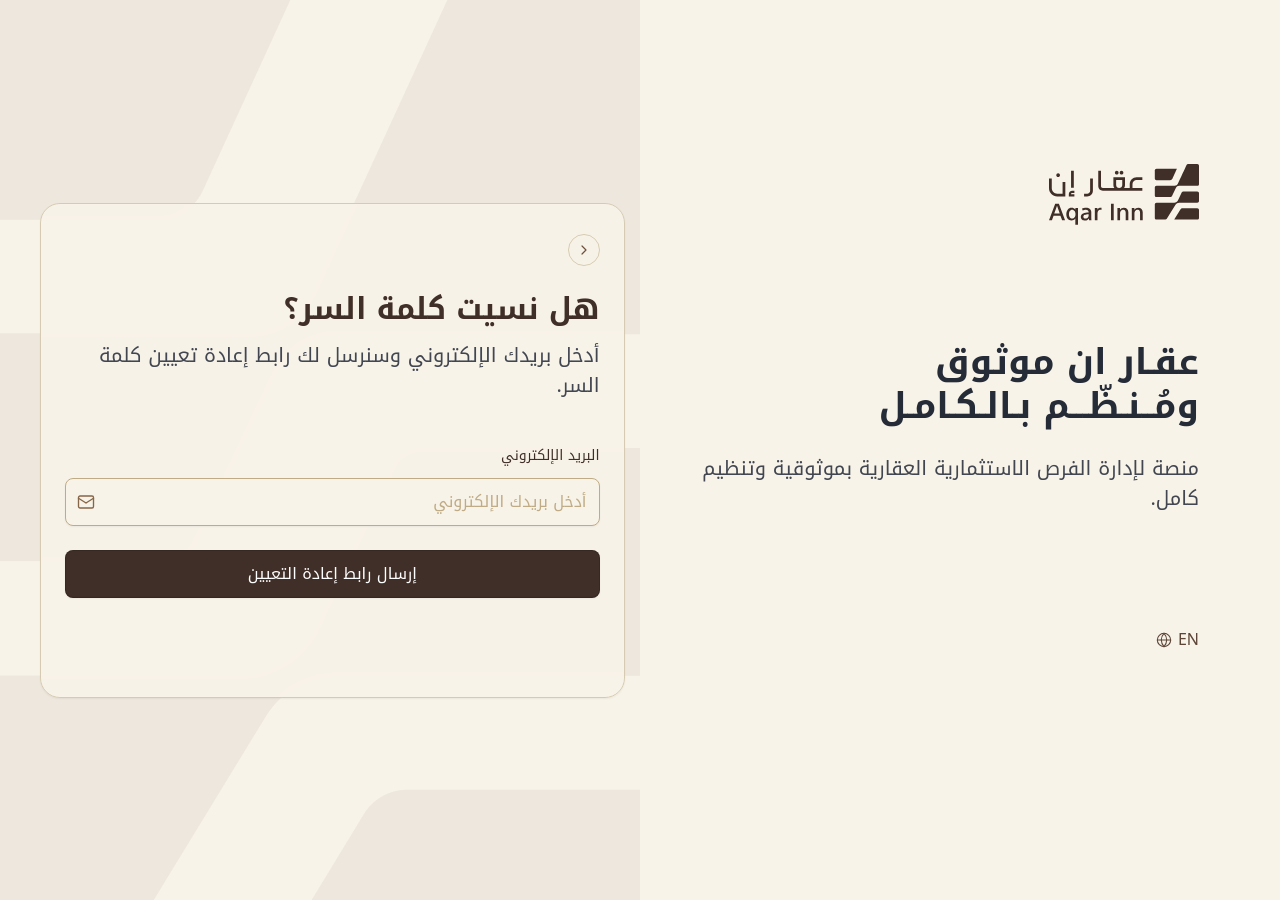
Test: Auth flow routes › validates the email field on forgot password
Check: the heading "هل نسيت كلمة السر؟" is shown, box [283,280,600,336]
Type "invalid-email" into the field with placeholder "أدخل بريدك الإلكتروني" at coordinates (332, 502), box [65,478,600,526]
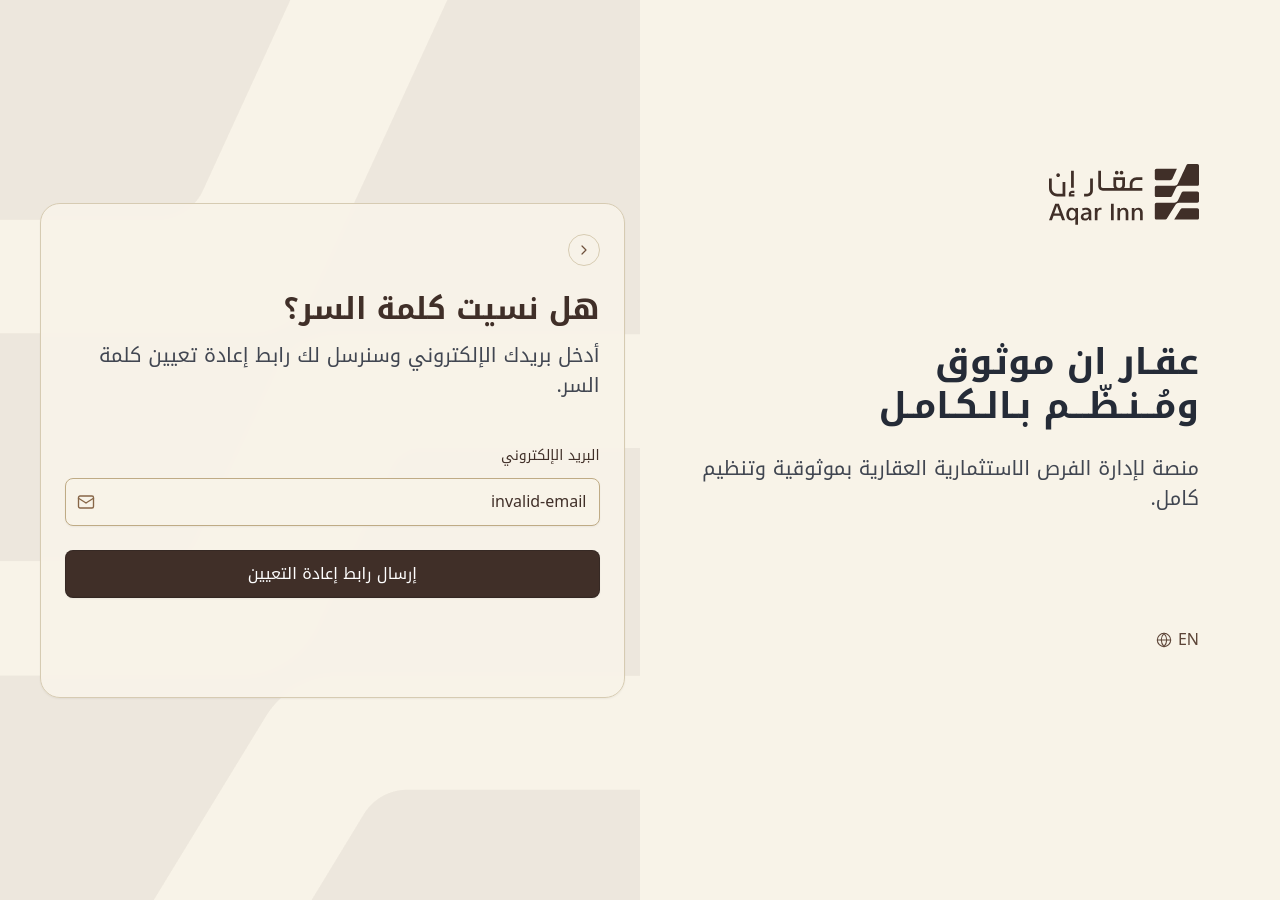
Click the button "إرسال رابط إعادة التعيين" at coordinates (332, 574), box [65,550,600,598]
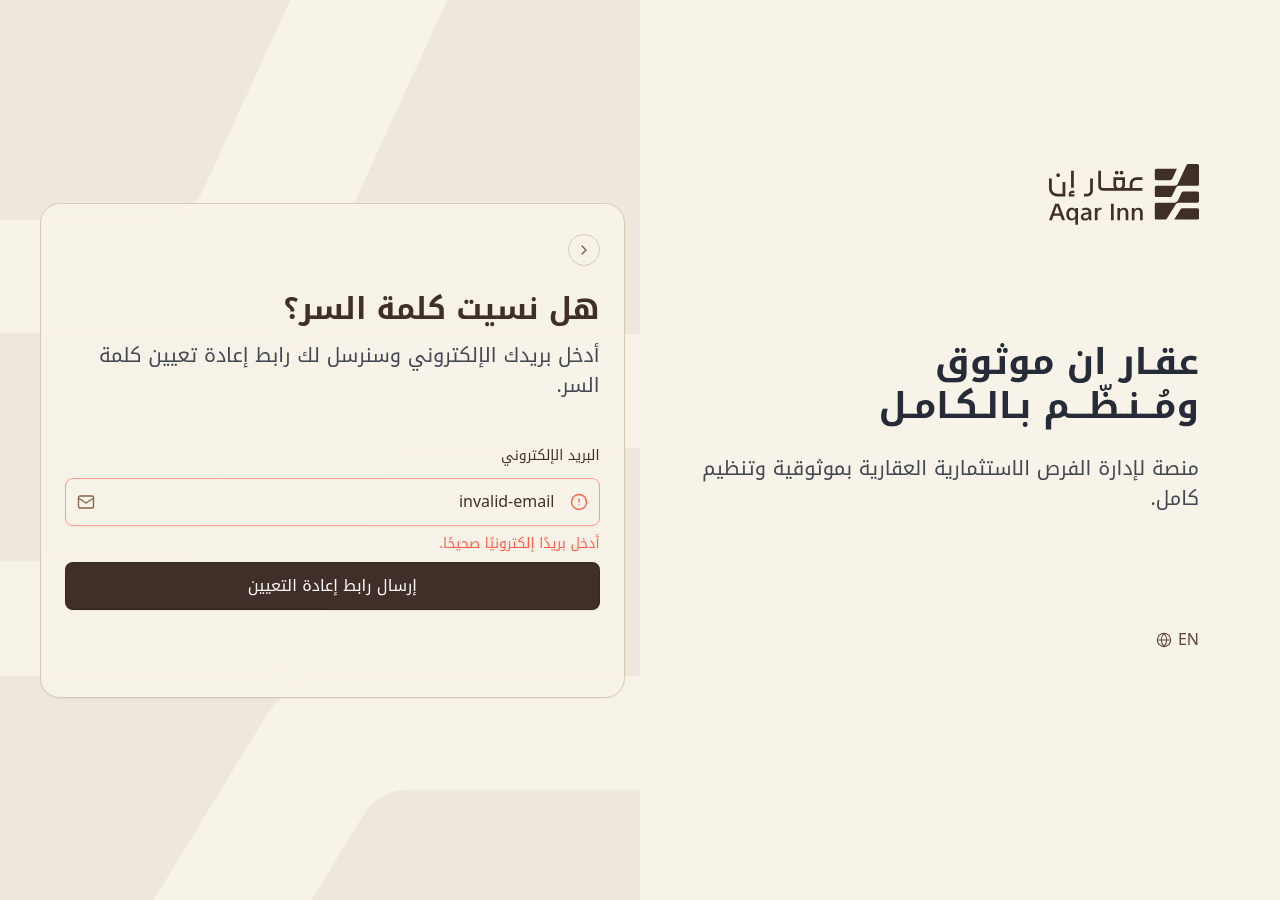
Check: the text "أدخل بريدًا إلكترونيًا صحيحًا." is shown, box [439,530,600,556]
